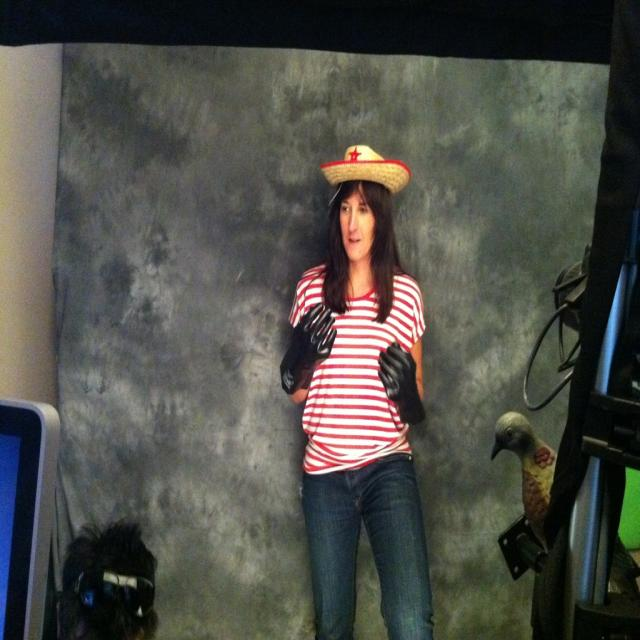Hat: (320, 145, 412, 195)
